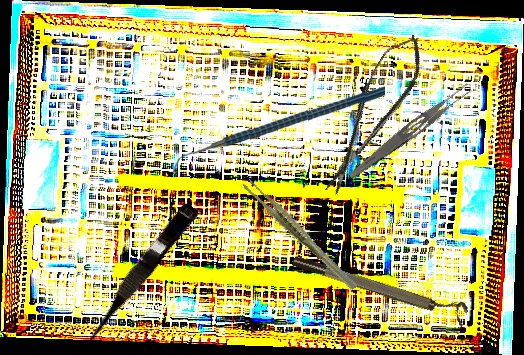Chopper: (173, 82, 385, 179)
Dressing Forceps: (346, 79, 475, 186)
Fixation Ring: (290, 245, 471, 328)
Micro Scissor: (308, 26, 436, 202), (74, 199, 201, 351)
Tissue Forceps: (241, 162, 359, 308)
